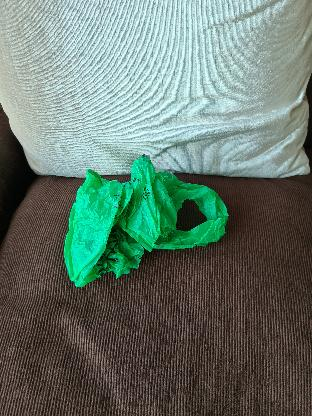Plastic Bag: (64, 154, 230, 286)
